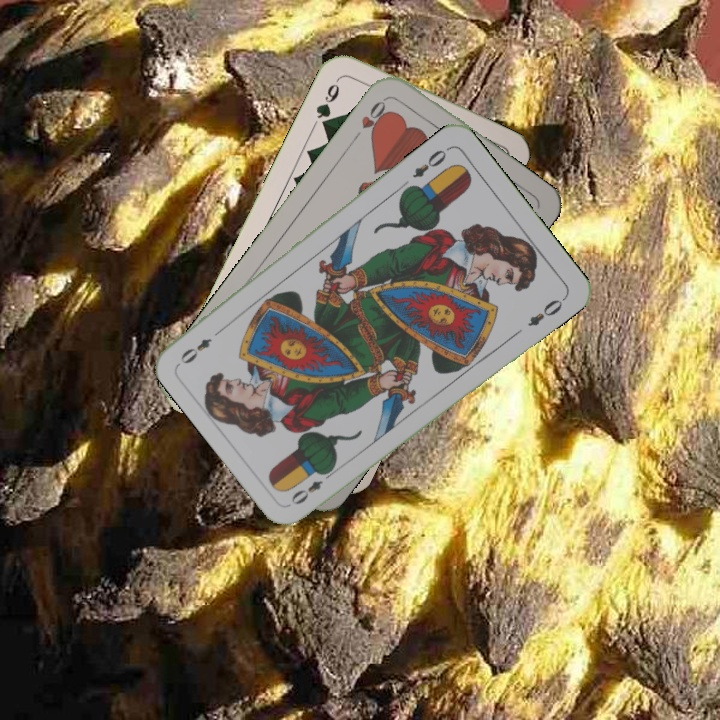EO: (286, 465, 337, 508), (408, 143, 452, 181)
G9: (311, 72, 344, 131)
HO: (349, 93, 393, 144)
